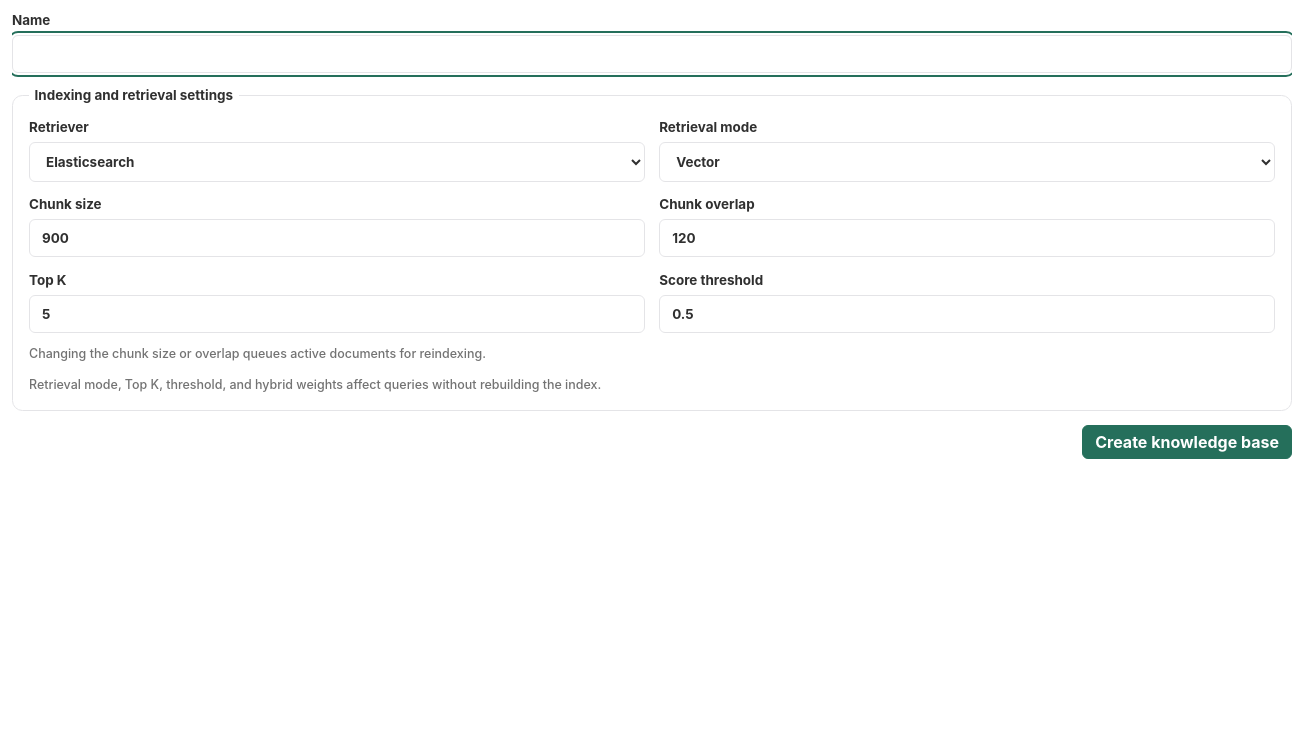
Test: KnowledgeCollectionForm › offers all Elasticsearch modes and resets hybrid to vector when switching to Qdrant
Step 1. Select "Hybrid" in the dropdown labelled "Retrieval mode" → coordinates (967, 162), box [659, 142, 1275, 182]
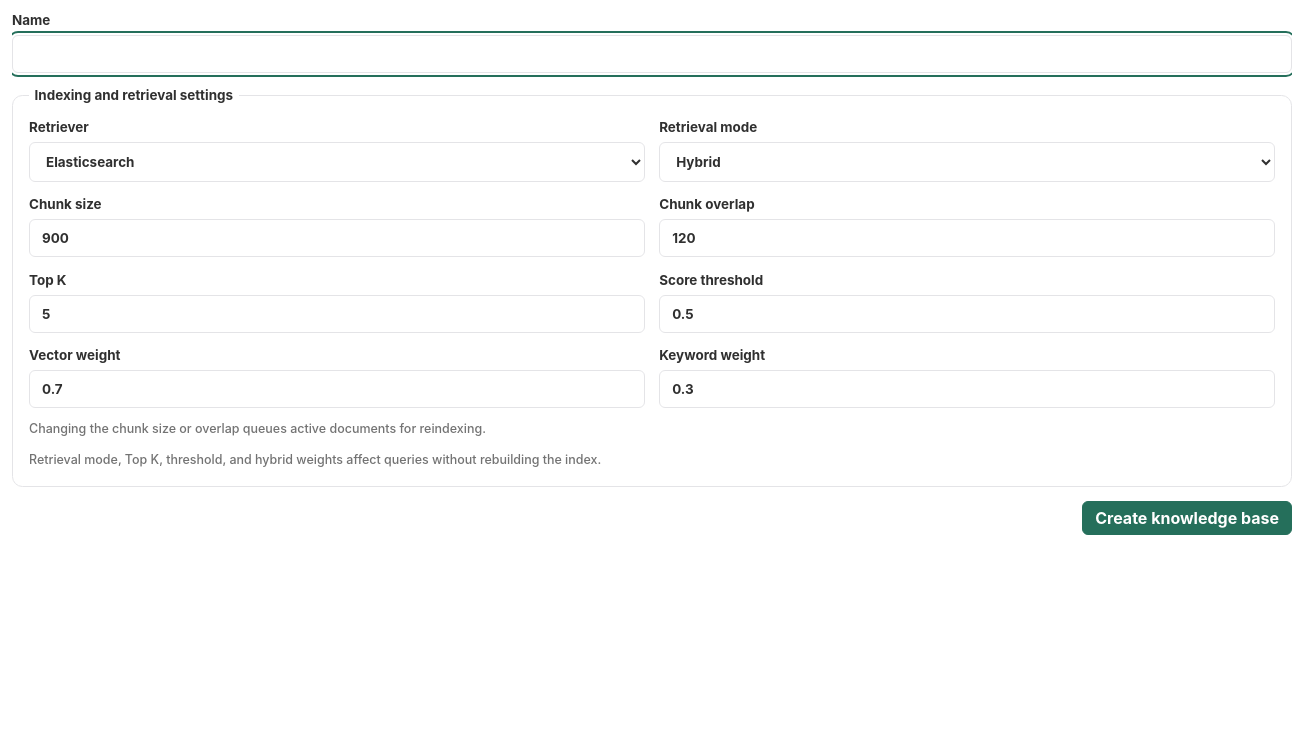
expect the number field labelled "Vector weight" holds "0.7": met, box [29, 370, 645, 408]
Step 2. Select "Qdrant" in the dropdown labelled "Retriever" → coordinates (337, 162), box [29, 142, 645, 182]
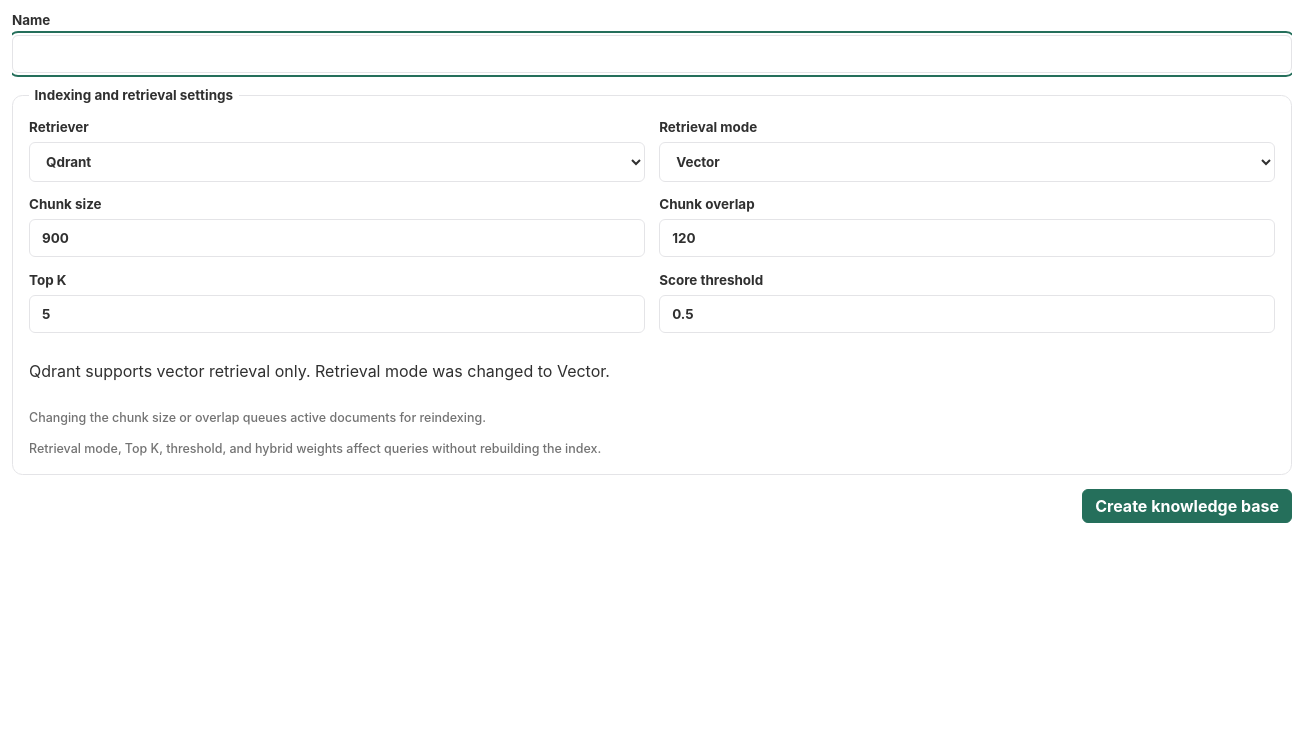
expect the label "Keyword" is gone: met
expect the message shows "supports vector retrieval only": met, box [29, 361, 610, 381]
